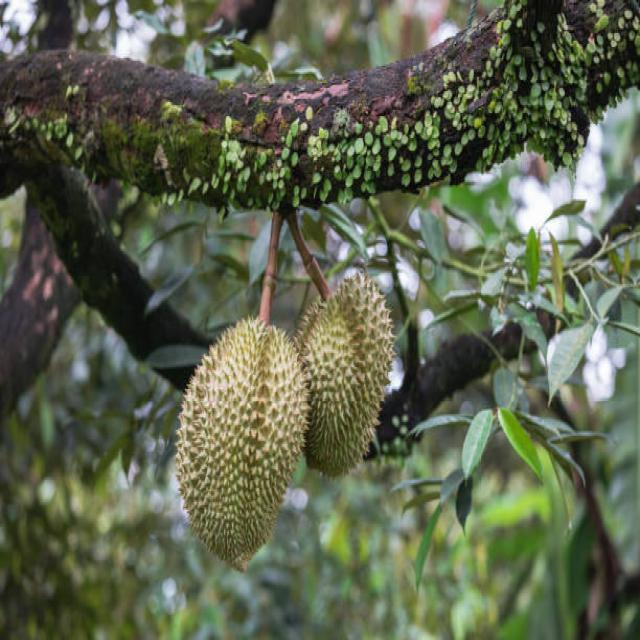mature: (176, 319, 309, 570), (295, 272, 394, 477)
